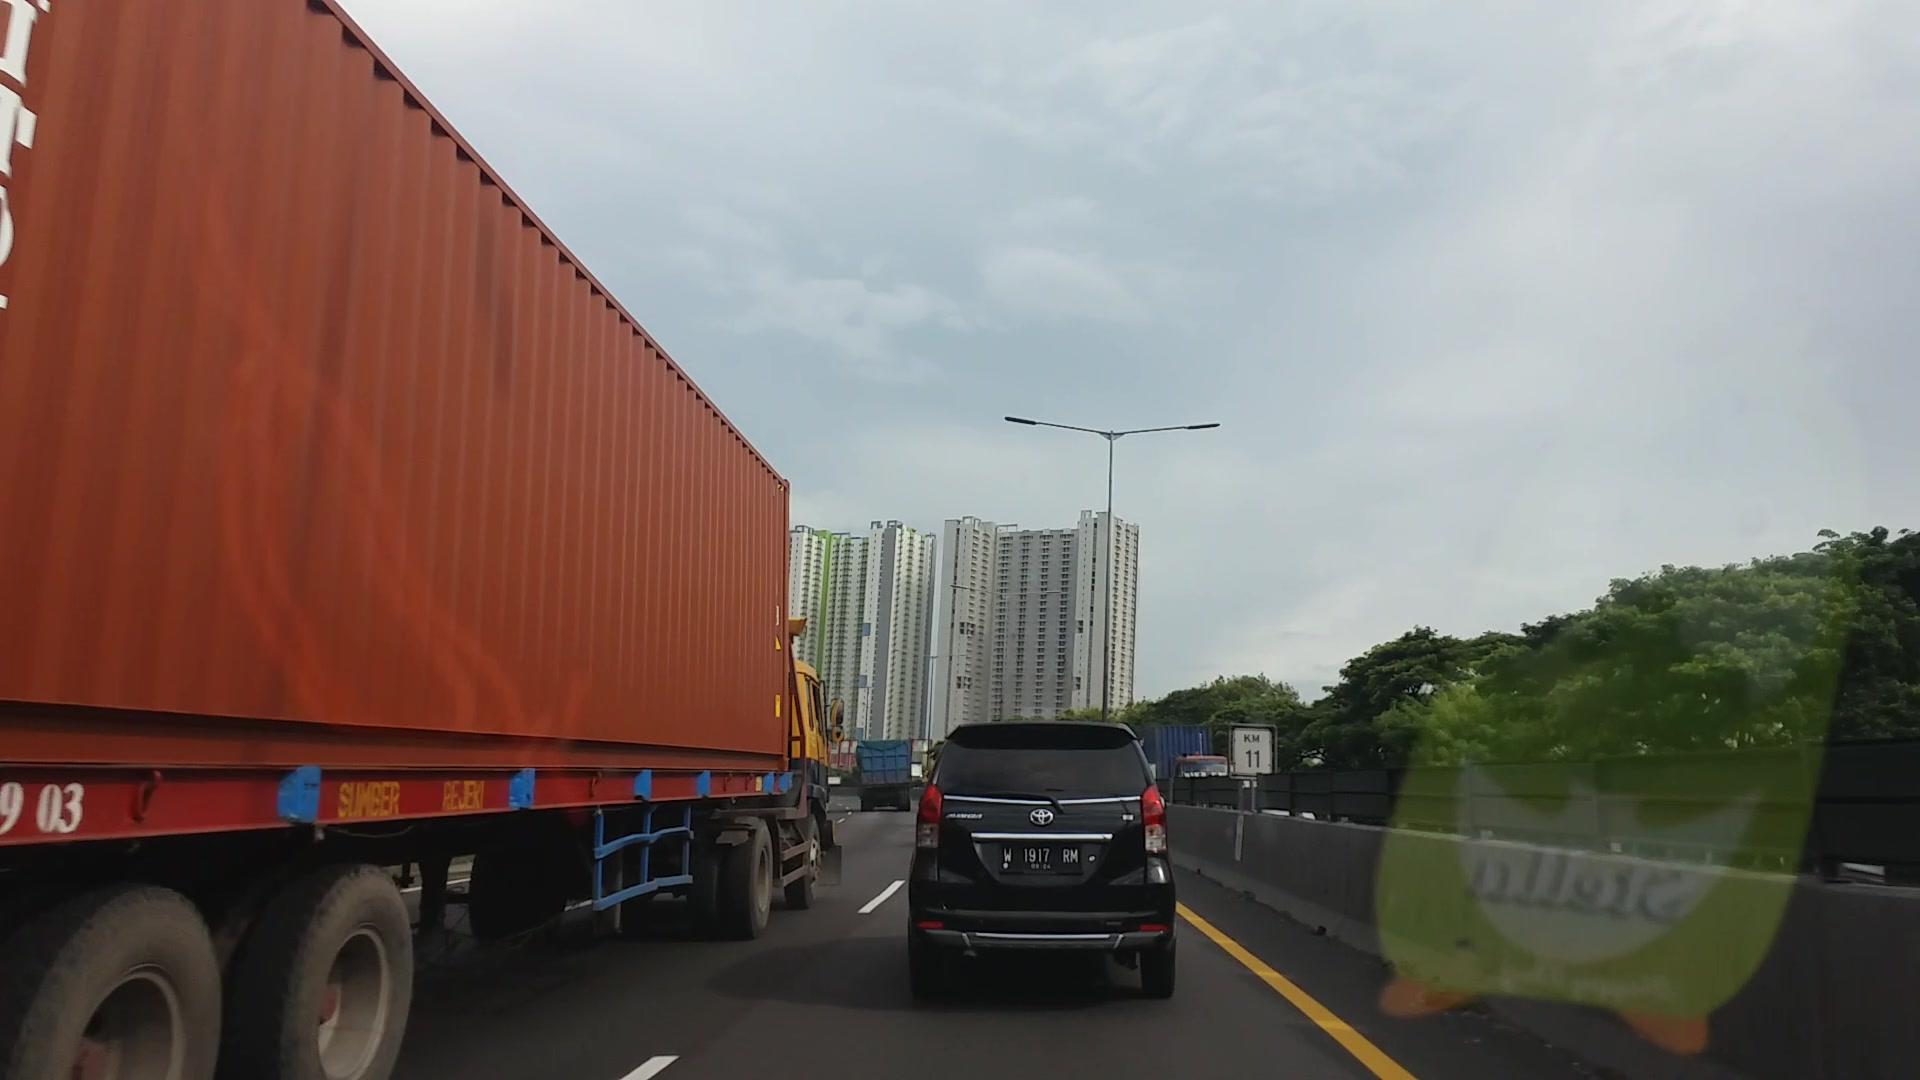plate_positive: (1000, 843, 1083, 876)
